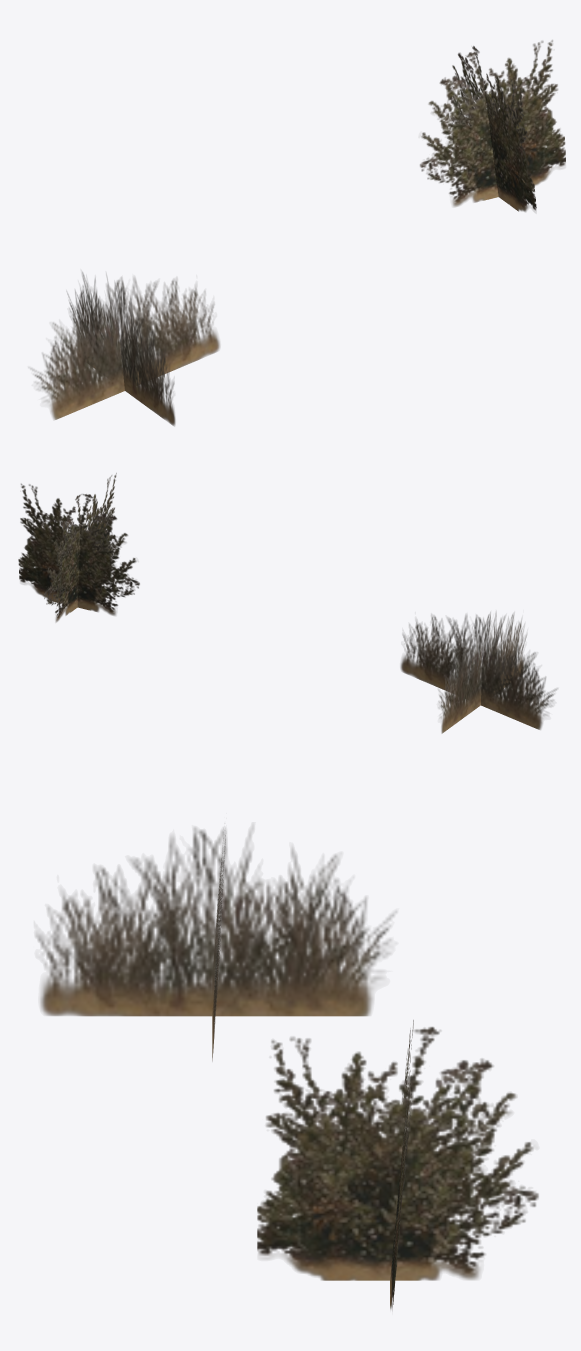
The model's file is 0802worlddeserttransparent_worlddeserttransparentmaterial_0_lev.glb.
3 views of the same model, one above another, from view 1: azimuth 30°, elevation 25°; view 2: azimuth 150°, elevation 25°; view 3: azimuth 270°, elevation 25° (orthographic). The views are drawn at different scales.
Parts seen in each view (by area): view 1: 0802worlddeserttransparent_worlddeserttransparentmaterial_0_; view 2: 0802worlddeserttransparent_worlddeserttransparentmaterial_0_; view 3: 0802worlddeserttransparent_worlddeserttransparentmaterial_0_.
Part boxes in pixels (left/top/right/bottom): 0802worlddeserttransparent_worlddeserttransparentmaterial_0_: left=28, top=40, right=565, bottom=426; 0802worlddeserttransparent_worlddeserttransparentmaterial_0_: left=18, top=473, right=557, bottom=733; 0802worlddeserttransparent_worlddeserttransparentmaterial_0_: left=35, top=824, right=538, bottom=1310.
Size of the model in its own units: 2.78 by 0.9656 by 1.22.
Materials: 1 (1 with a texture image).
